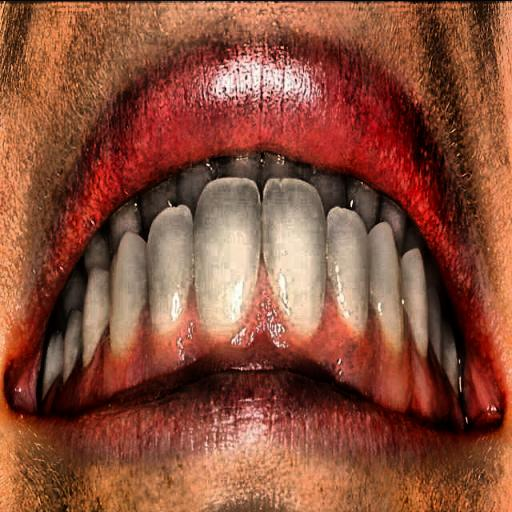Healthy: (46, 20, 473, 415)
